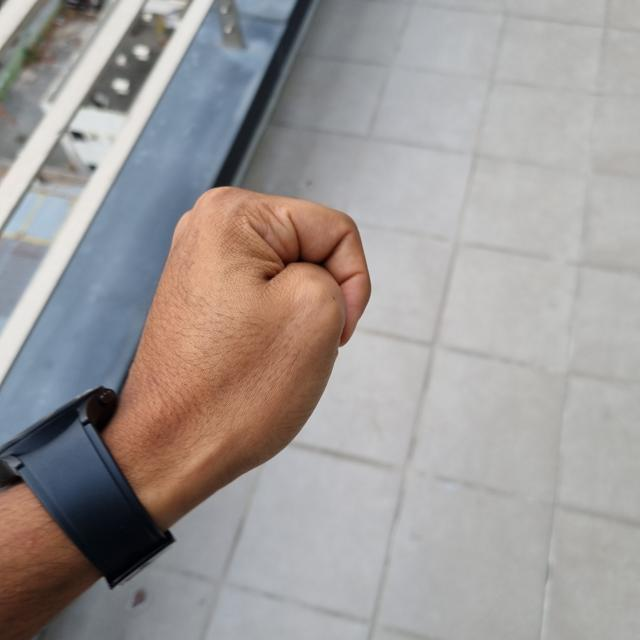Rock: (106, 186, 373, 508)
